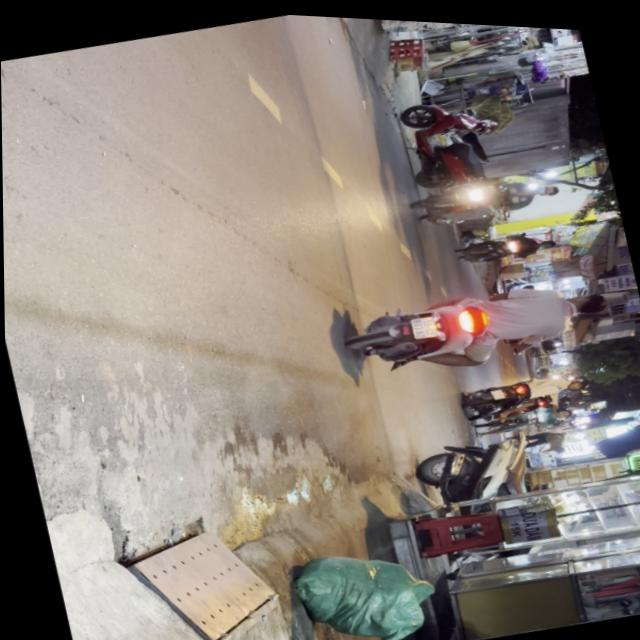licenseplate: (339, 252, 619, 390)
motorcyclist: (566, 280, 610, 312)
nohelmet: (409, 309, 439, 335)
